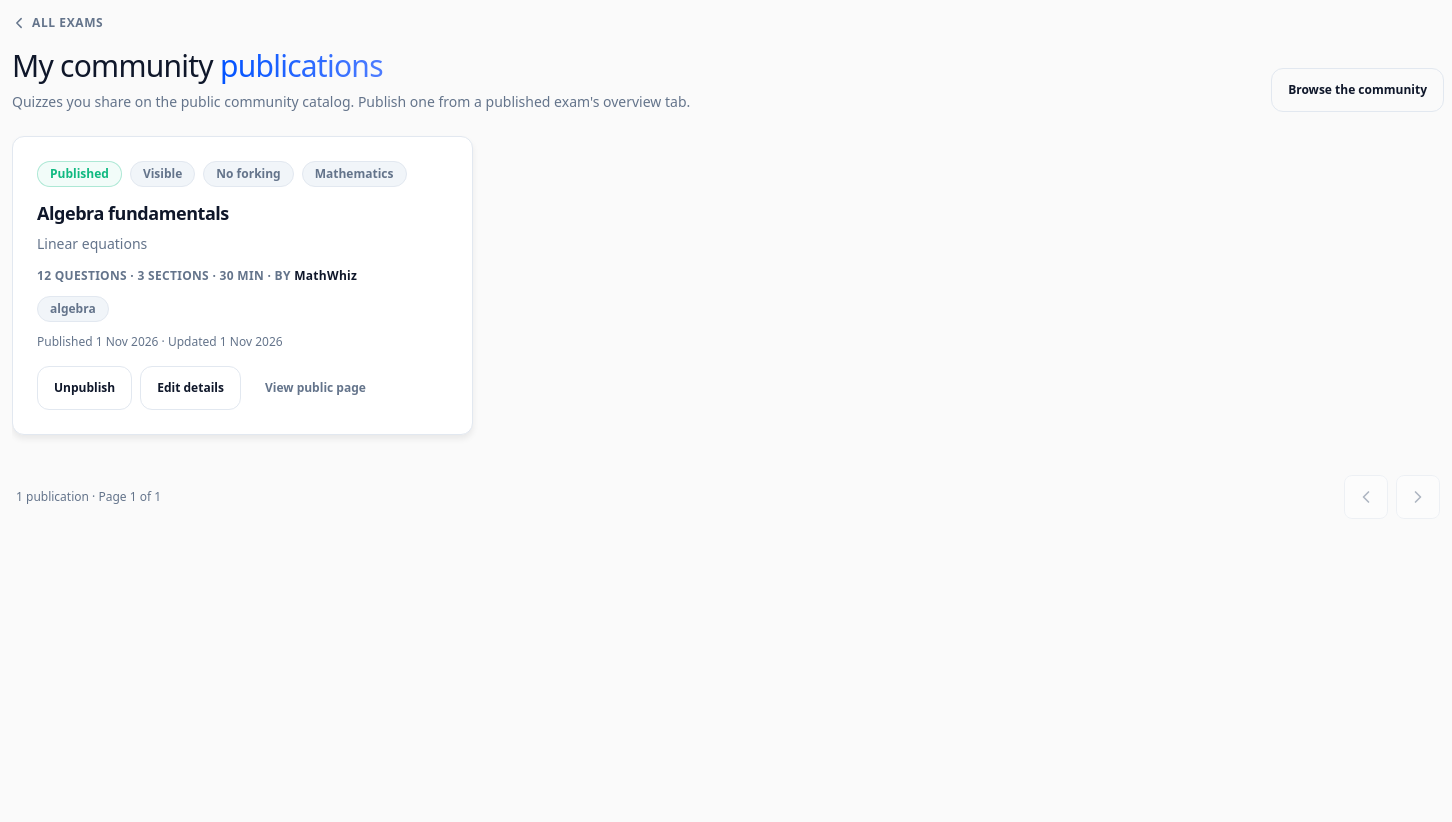
/community/mine › unpublishes a PUBLISHED row (idempotent no-op still succeeds)
Step 1. Click the button "Unpublish" → [85, 388], box [37, 366, 132, 410]
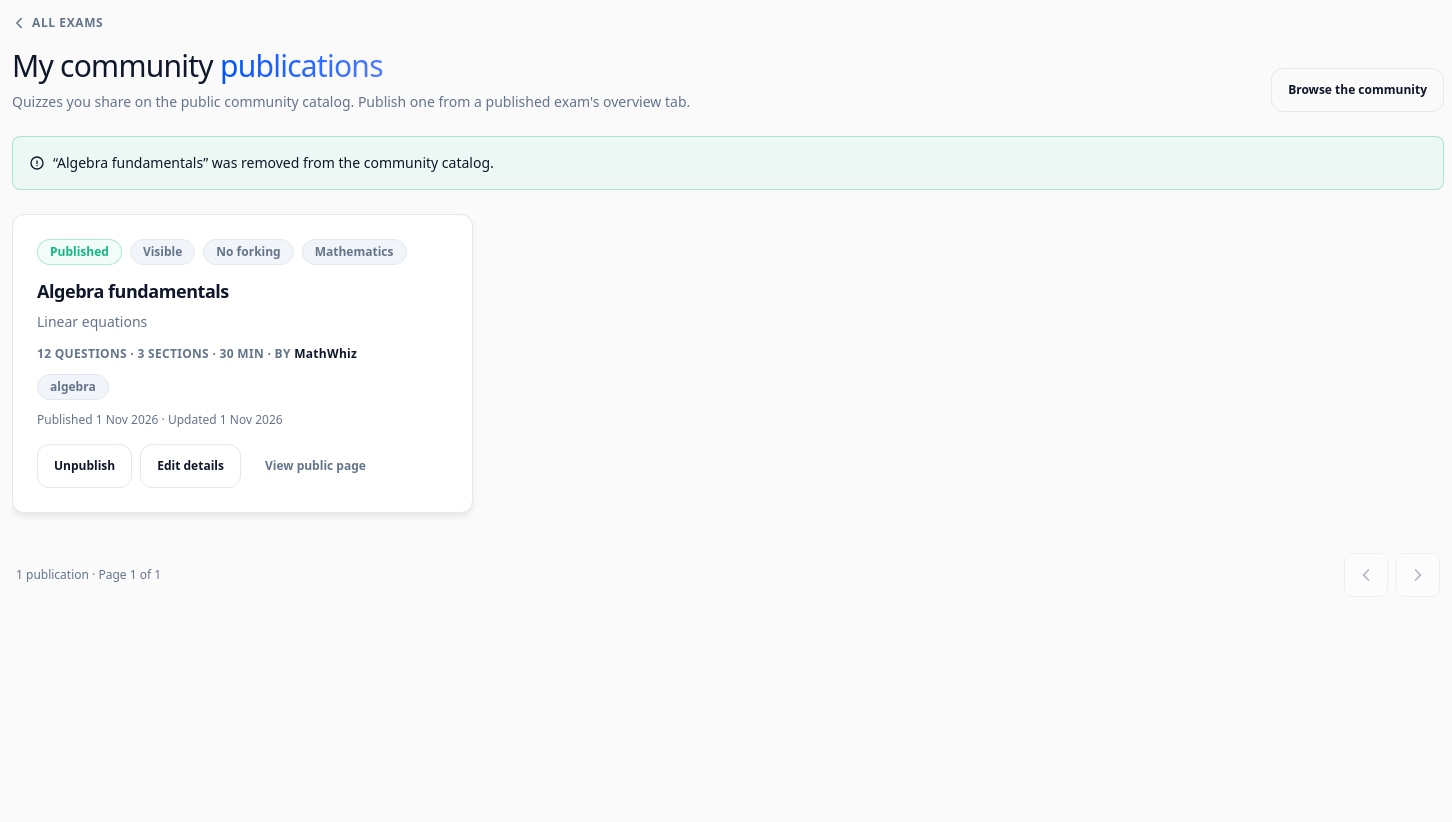
Expected: the text "was removed from the community catalog" is shown, [53, 153, 494, 172]
